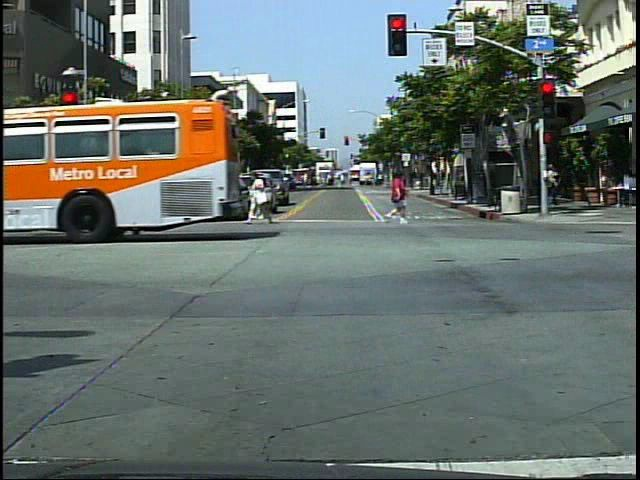person: (137, 169, 167, 235), (385, 166, 410, 228), (257, 167, 278, 227), (546, 161, 564, 212)
